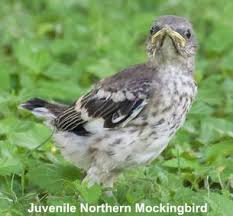hsparrow: (16, 14, 205, 194)
